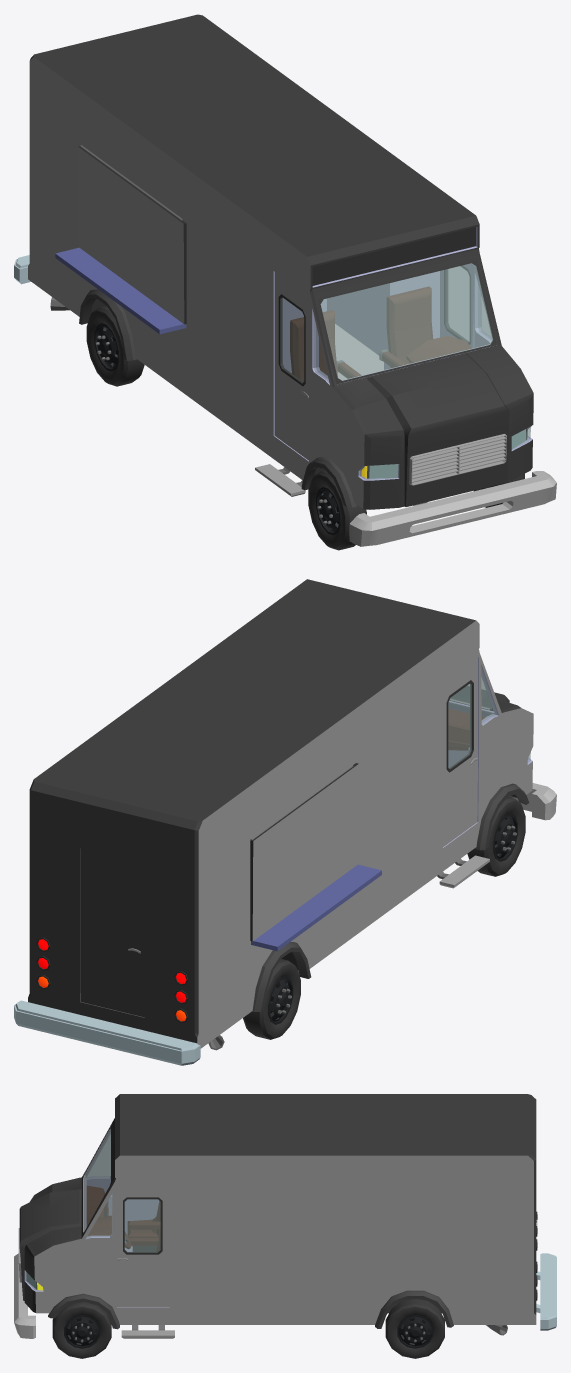
The model's file is FoodTruck2v1.fbx.
3 views of the same model, one above another, from view 1: azimuth 30°, elevation 25°; view 2: azimuth 150°, elevation 25°; view 3: azimuth 270°, elevation 25° (orthographic). The views are drawn at different scales.
Visible parts, largest first — view 1: Truck1Body, Windshield, FlipDoor, DoorPanel, Seat (×2), FLWheel2, FRWheel, Glass3, Glass2, DoorPanel2, Dash; view 2: Truck1Body, FlipDoor, RearDoor, DoorPanel, FLWheel2, FRWheel, Glass3, Dash, Windshield; view 3: Truck1Body, FLWheel2 (×2), DoorPanel2, Windshield, Glass2, Dash, DoorPanel, Seat.
Boxes of the visible parts, x1,y1,x2,y2 form: Truck1Body: (14, 14, 556, 546); Windshield: (313, 260, 496, 383); FlipDoor: (78, 146, 186, 324); DoorPanel: (274, 272, 309, 460); Seat (×2): (290, 286, 432, 381); FLWheel2: (86, 305, 144, 386); FRWheel: (308, 470, 366, 550); Glass3: (281, 297, 304, 382); Glass2: (447, 266, 469, 341); DoorPanel2: (440, 263, 474, 347); Dash: (406, 336, 471, 363); Truck1Body: (14, 579, 556, 1065); FlipDoor: (250, 763, 358, 941); RearDoor: (81, 848, 144, 1017); DoorPanel: (443, 658, 477, 846); FLWheel2: (243, 959, 300, 1039); FRWheel: (467, 796, 525, 876); Glass3: (448, 683, 471, 768); Dash: (448, 709, 484, 750); Windshield: (449, 668, 497, 724); Truck1Body: (14, 1094, 556, 1338); FLWheel2 (×2): (52, 1299, 444, 1358); DoorPanel2: (116, 1184, 169, 1306); Windshield: (82, 1126, 112, 1238); Glass2: (124, 1199, 160, 1252); Dash: (87, 1186, 111, 1235); DoorPanel: (125, 1199, 158, 1246); Seat: (128, 1201, 160, 1251).
Bounding box in the file's own units: 331 × 407 × 988.
